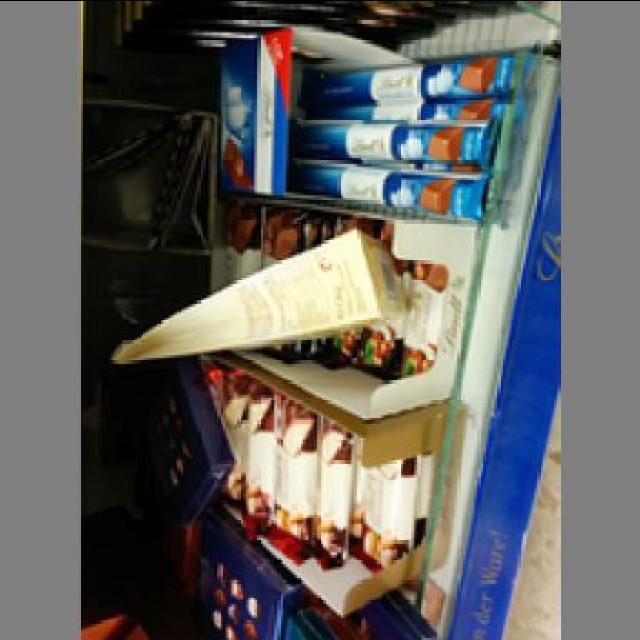Chocolate bar: (103, 231, 406, 369), (351, 437, 415, 592), (286, 172, 470, 212), (266, 406, 314, 554), (286, 126, 494, 157)
